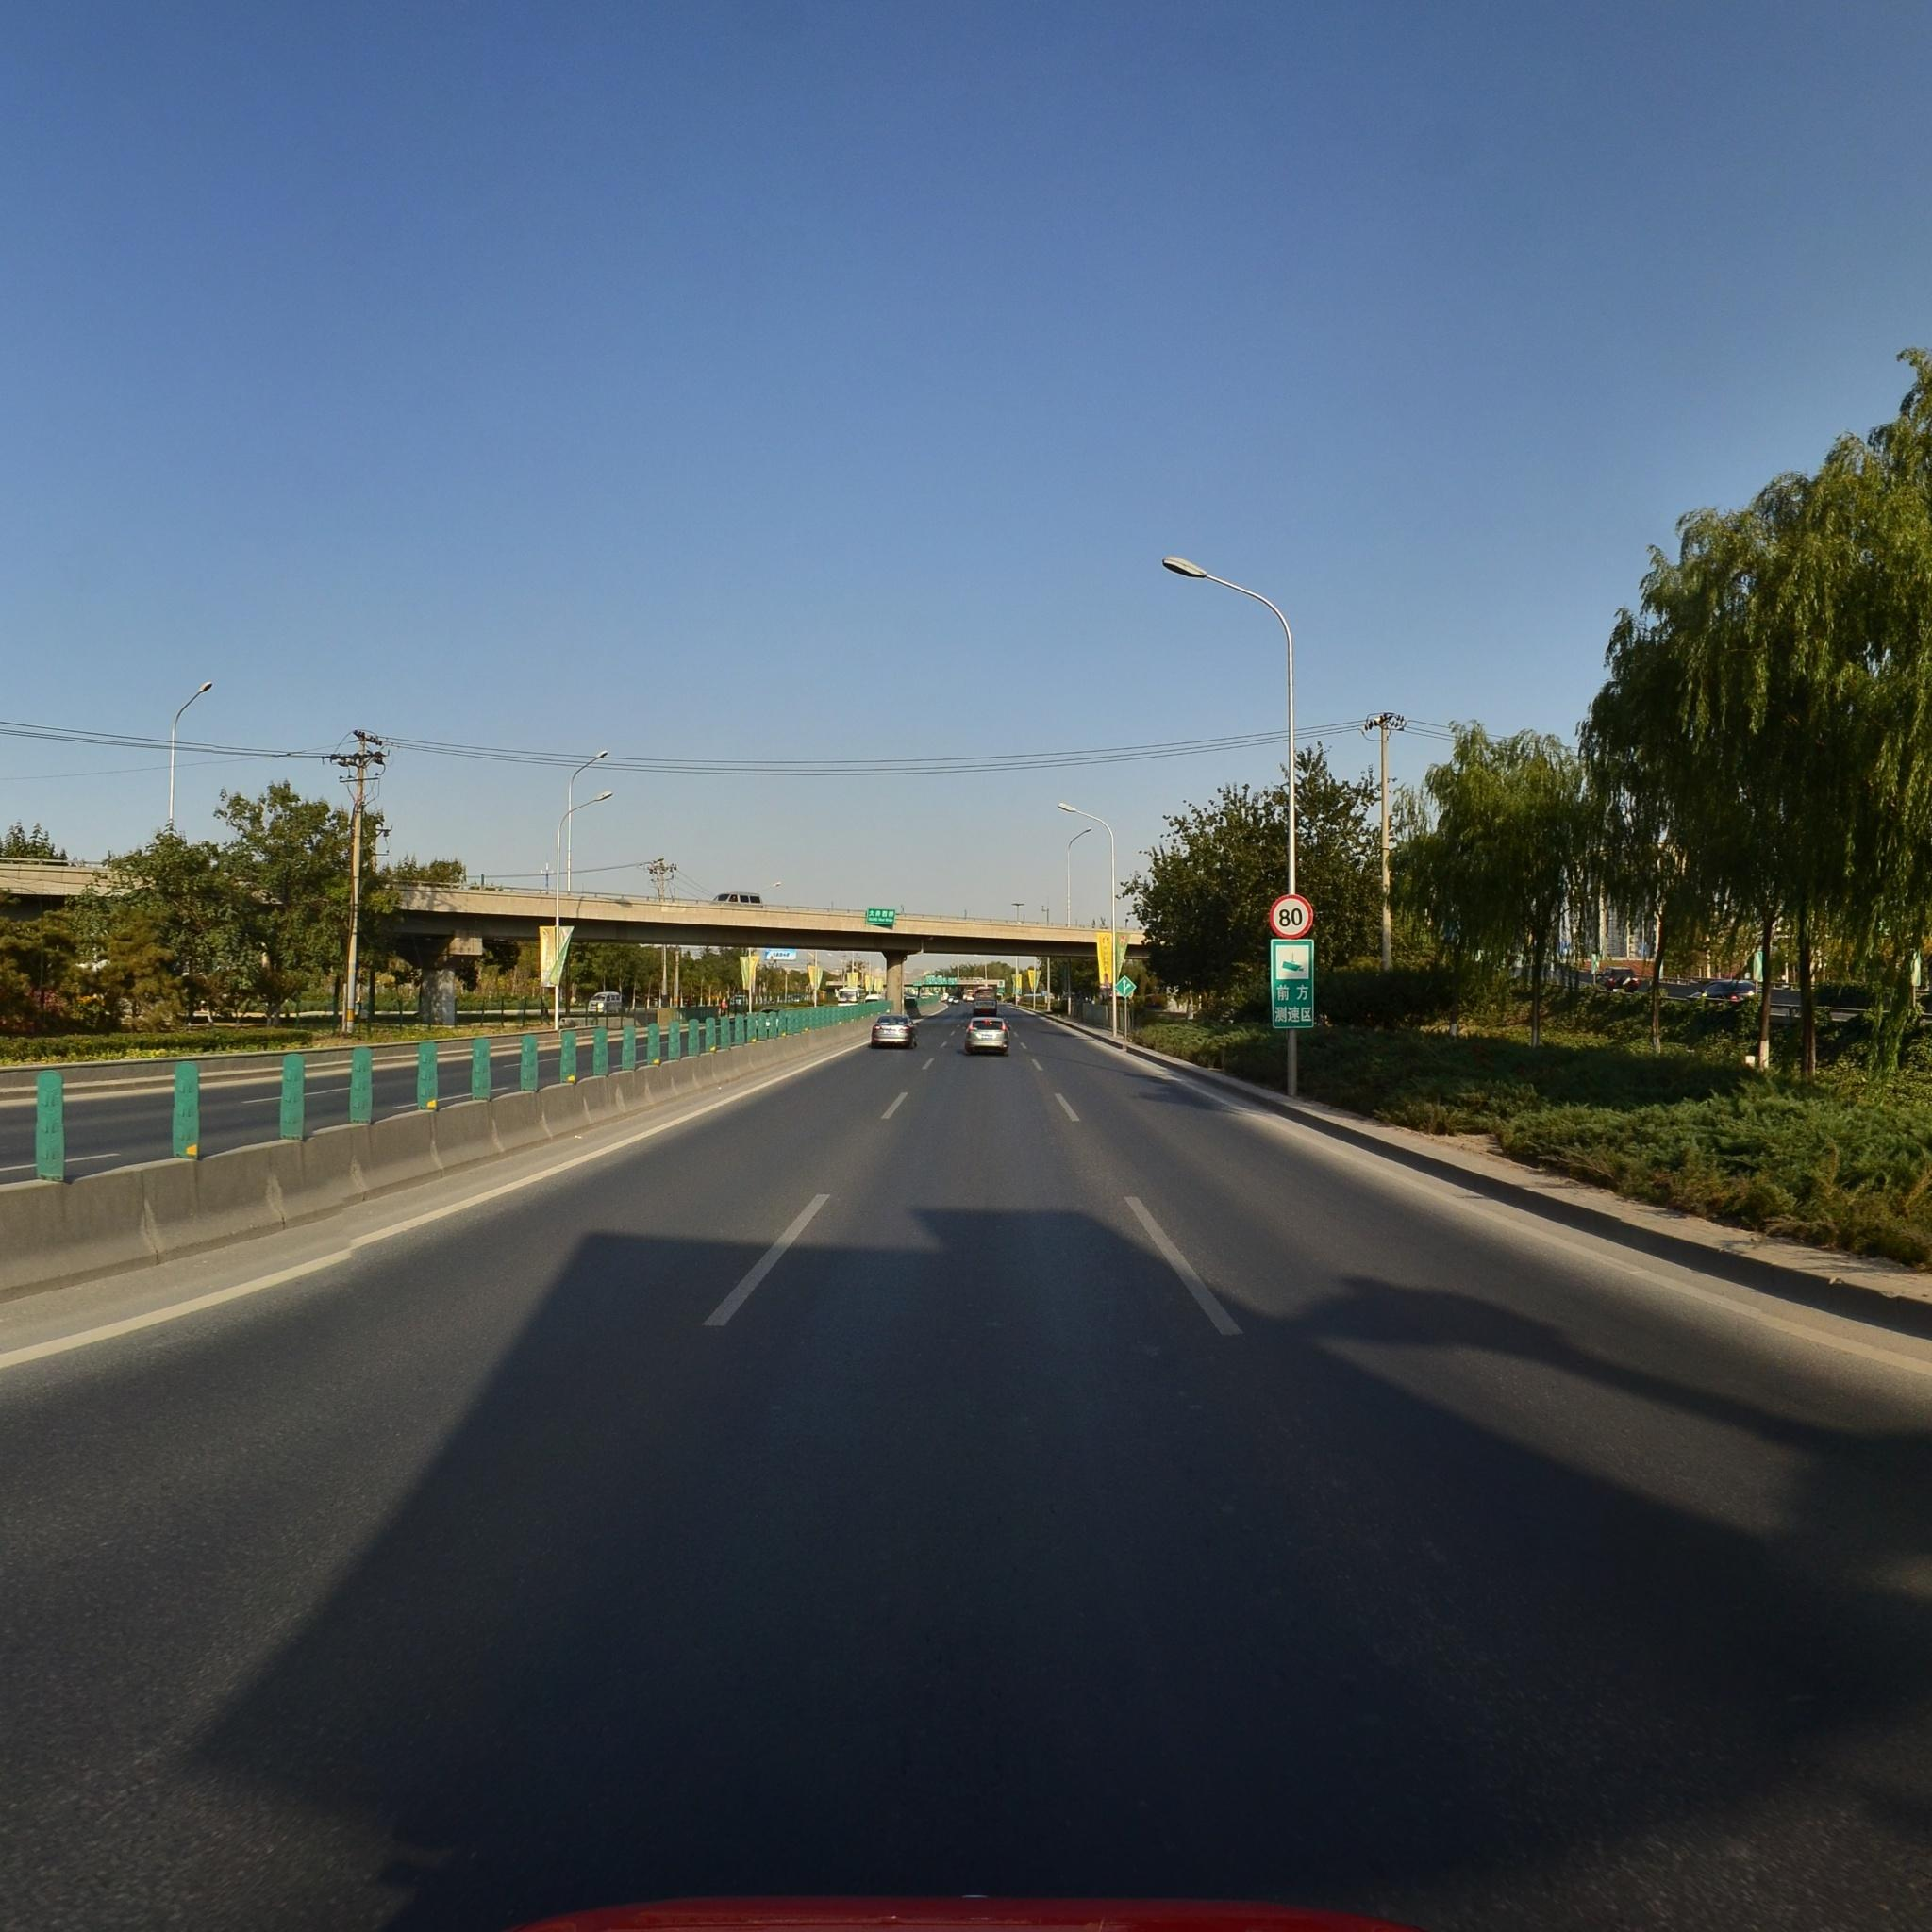pl80: (1269, 893, 1313, 938)
